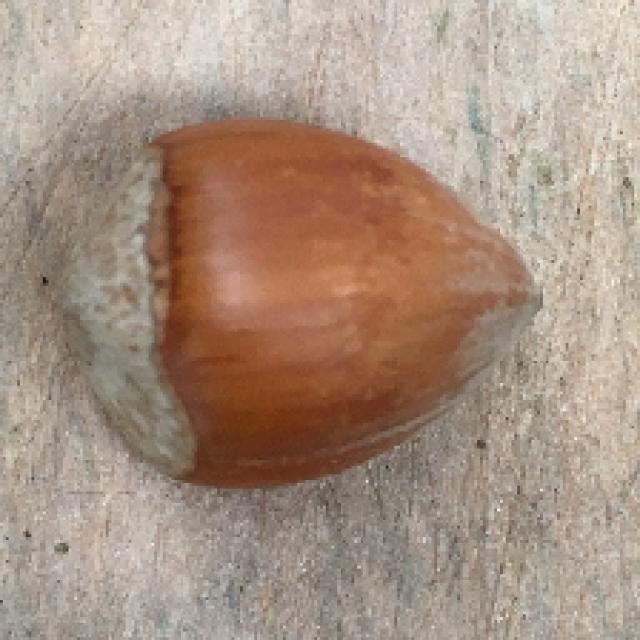QualityHazelnut: (56, 121, 546, 487)
